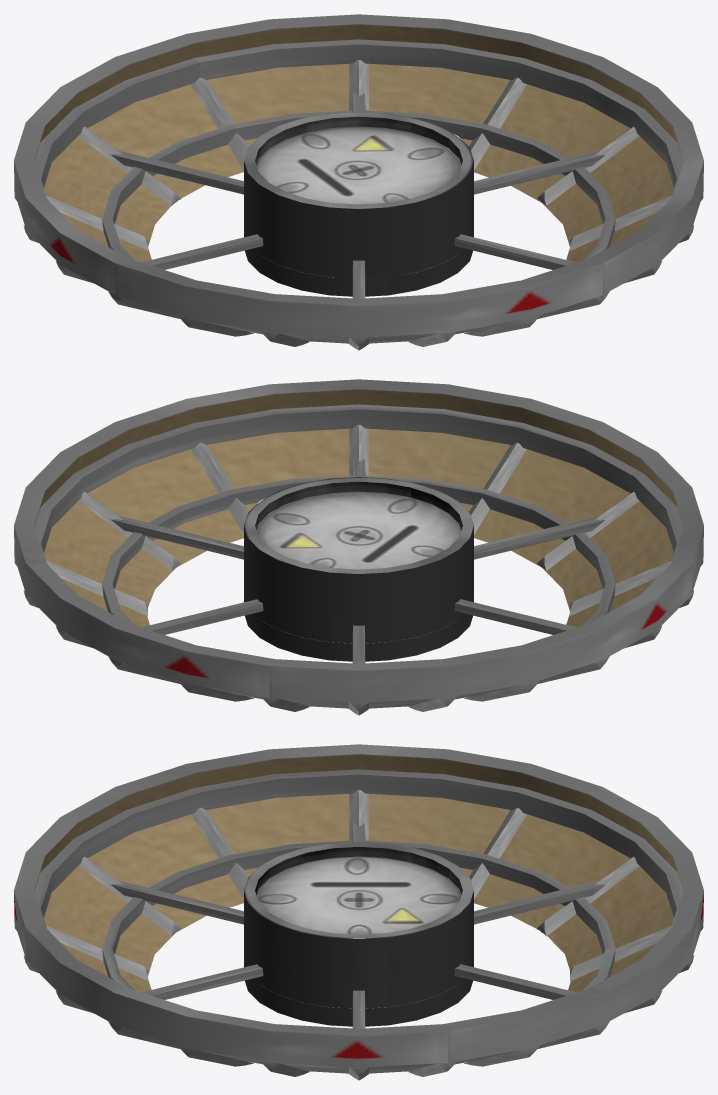
The picture shows the model from 3 angles, top to bottom: view 1: azimuth 30°, elevation 25°; view 2: azimuth 150°, elevation 25°; view 3: azimuth 270°, elevation 25°; orthographic projection.
Visible parts, largest first — view 1: Adapter1812, Cylinder042, Tube001, Tube002, Cylinder045, Box136, Box023, Bracer034, Bracer036, Bracer033, Bracer037, Bracer038 (+5 smaller); view 2: Adapter1812, Cylinder042, Tube001, Tube002, Cylinder045, Box023, Box137, Bracer040, Bracer038, Bracer041, Bracer037, Bracer036 (+5 smaller); view 3: Adapter1812, Cylinder042, Tube001, Tube002, Cylinder045, Box137, Box136, Bracer042, Bracer032, Bracer033, Bracer041, Bracer034 (+5 smaller).
Boxes of the visible parts, <box> form: Adapter1812: <box>14,14,703,343</box>; Cylinder042: <box>244,112,473,278</box>; Tube001: <box>34,39,683,198</box>; Tube002: <box>102,110,615,260</box>; Cylinder045: <box>244,231,473,296</box>; Box136: <box>110,150,576,269</box>; Box023: <box>141,150,605,269</box>; Bracer034: <box>191,77,248,170</box>; Bracer036: <box>469,77,526,170</box>; Bracer033: <box>78,126,180,206</box>; Bracer037: <box>537,126,639,205</box>; Bracer038: <box>570,195,671,250</box>; Adapter1812: <box>14,379,703,708</box>; Cylinder042: <box>244,477,473,643</box>; Tube001: <box>34,404,683,563</box>; Tube002: <box>102,475,615,625</box>; Cylinder045: <box>244,596,473,661</box>; Box023: <box>110,515,576,634</box>; Box137: <box>141,515,605,634</box>; Bracer040: <box>469,442,526,534</box>; Bracer038: <box>191,442,248,533</box>; Bracer041: <box>537,491,639,570</box>; Bracer037: <box>78,491,180,570</box>; Bracer036: <box>46,560,147,616</box>; Adapter1812: <box>14,744,703,1073</box>; Cylinder042: <box>244,842,473,1008</box>; Tube001: <box>34,769,683,928</box>; Tube002: <box>102,840,615,990</box>; Cylinder045: <box>244,961,473,1026</box>; Box137: <box>110,880,576,999</box>; Box136: <box>141,880,605,999</box>; Bracer042: <box>191,807,248,899</box>; Bracer032: <box>469,807,526,898</box>; Bracer033: <box>537,856,639,936</box>; Bracer041: <box>78,856,180,935</box>; Bracer034: <box>570,925,671,981</box>.
Size of what is drawn, in the model's own units: 1.91 by 0.2695 by 1.91.
1 material, 1 textured.
